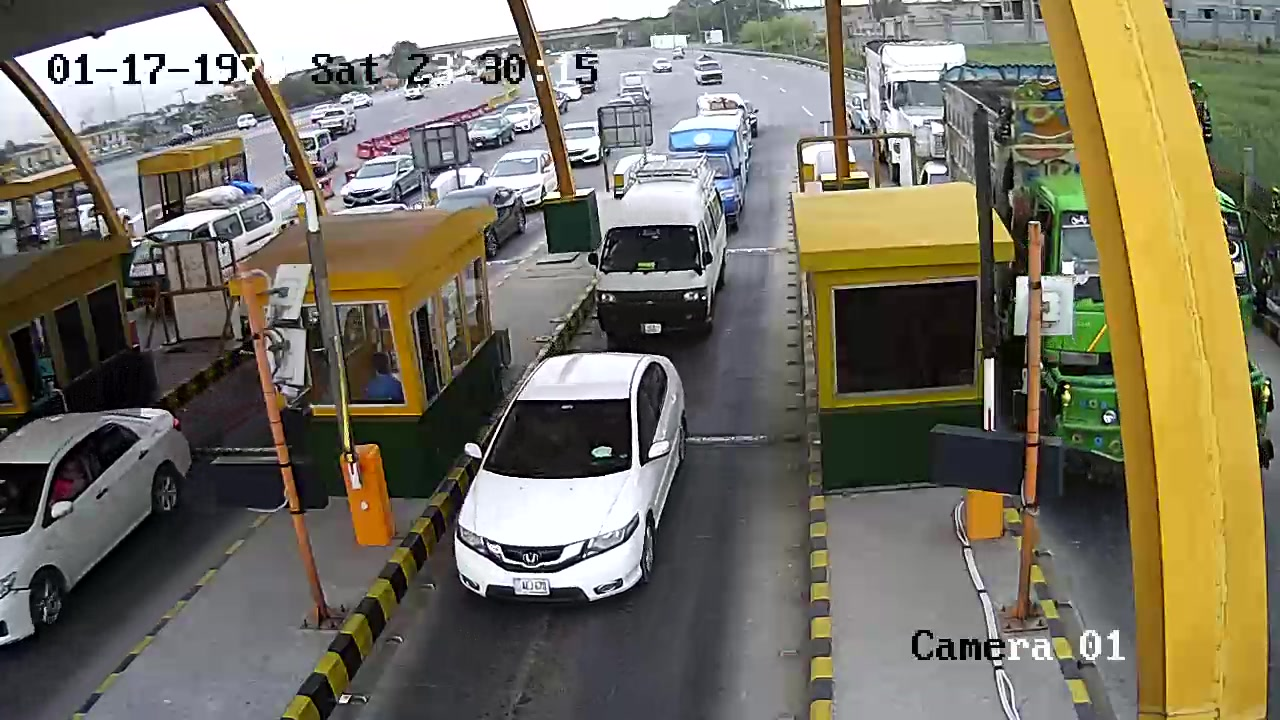F1: (449, 344, 719, 612)
F3: (594, 154, 731, 338)
